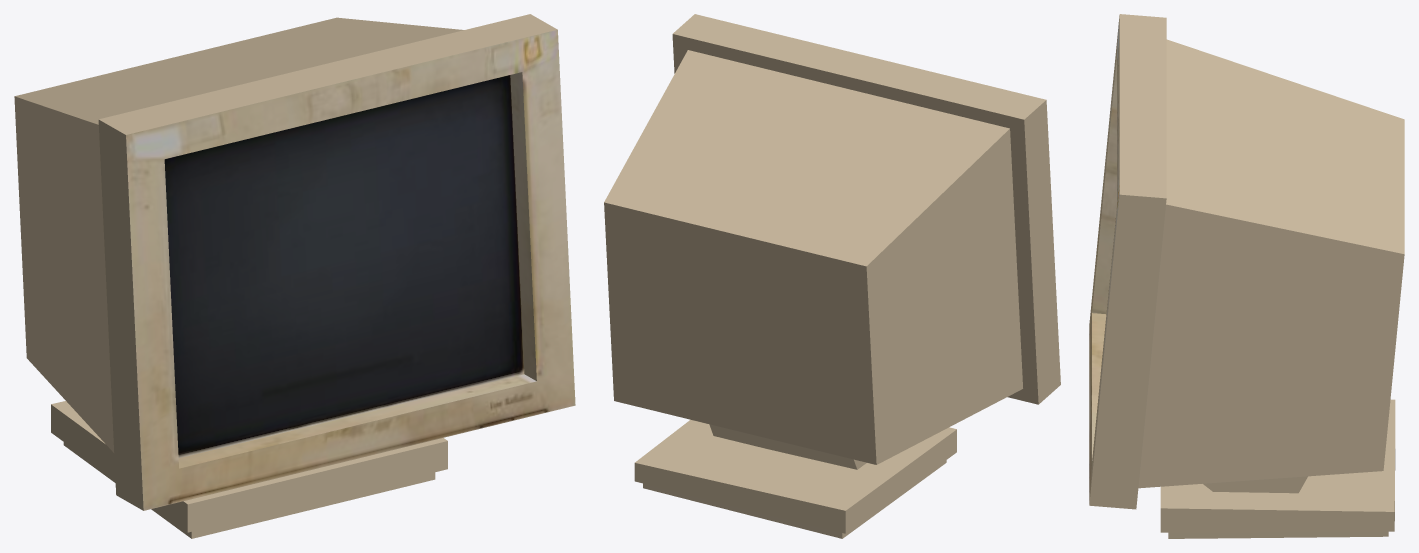
File: Monitor_v2.fbx
3 renders of one model, left to right at view 1: azimuth 30°, elevation 25°; view 2: azimuth 150°, elevation 25°; view 3: azimuth 270°, elevation 25°, orthographic. The views are drawn at different scales.
Parts seen in each view (by area): view 1: Monitor_Head; view 2: Monitor_Head; view 3: Monitor_Head.
Boxes of the visible parts, x1,y1,x2,y2 form: Monitor_Head: (14,14,575,538); Monitor_Head: (604,14,1060,538); Monitor_Head: (1089,14,1404,538).
Size of the model in its own units: 153 by 151 by 113.
